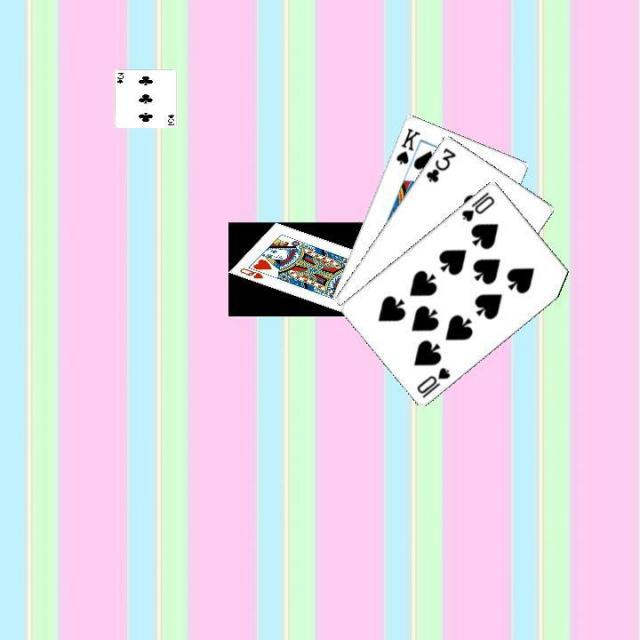10S: (412, 362, 452, 400), (458, 188, 497, 223)
3C: (421, 143, 458, 184)
KS: (392, 124, 422, 166)
